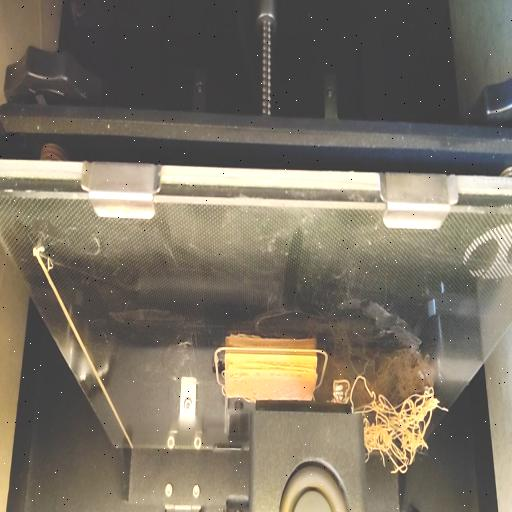spaghetti: (365, 384, 441, 474), (347, 376, 362, 414)
